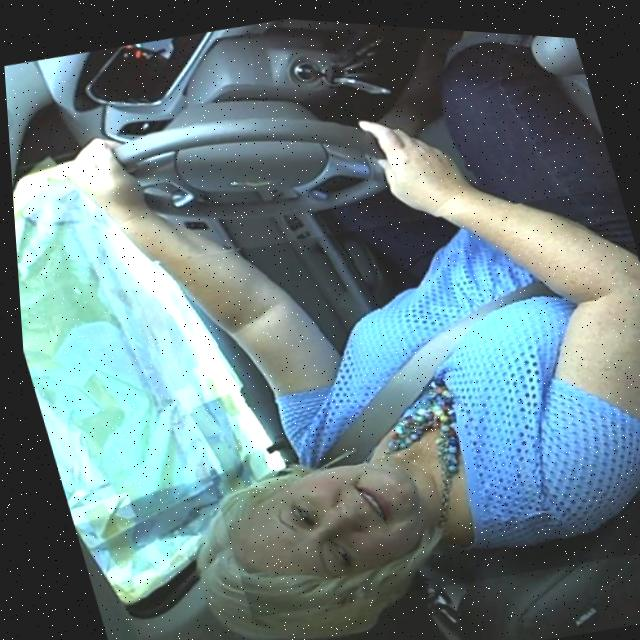seatbelt: (138, 152, 640, 637)
